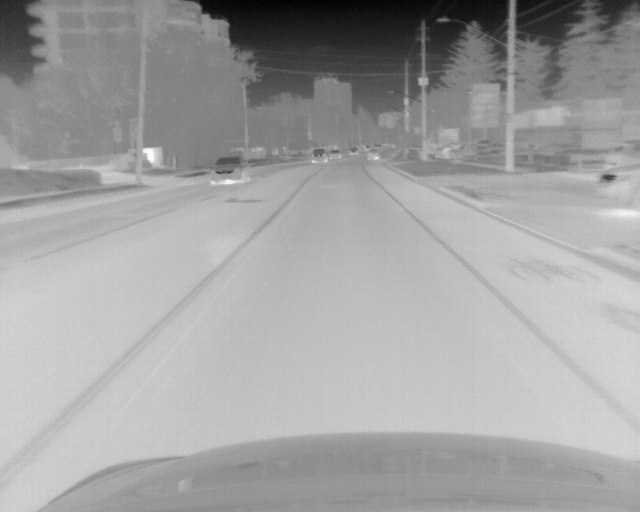car: (597, 159, 640, 215), (210, 153, 249, 185), (311, 148, 326, 164), (327, 148, 340, 160), (367, 148, 379, 161), (348, 147, 358, 155), (375, 143, 384, 150)
